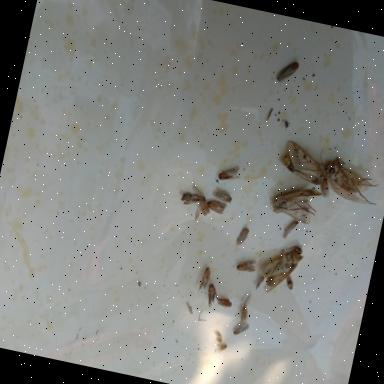abw: (310, 146, 384, 207), (272, 138, 336, 198), (253, 238, 305, 298), (268, 180, 324, 226)
pbw: (274, 58, 300, 85), (217, 163, 242, 184), (204, 282, 222, 309), (234, 257, 256, 278), (197, 266, 212, 294), (204, 200, 228, 216), (282, 218, 298, 241), (232, 320, 249, 337), (236, 226, 249, 248), (210, 190, 232, 202), (199, 200, 213, 217), (216, 295, 232, 309), (238, 306, 249, 324)
